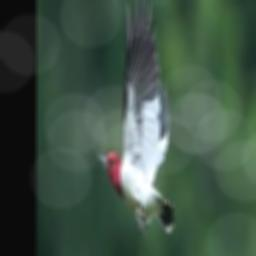Woodpecker: (98, 0, 178, 234)
